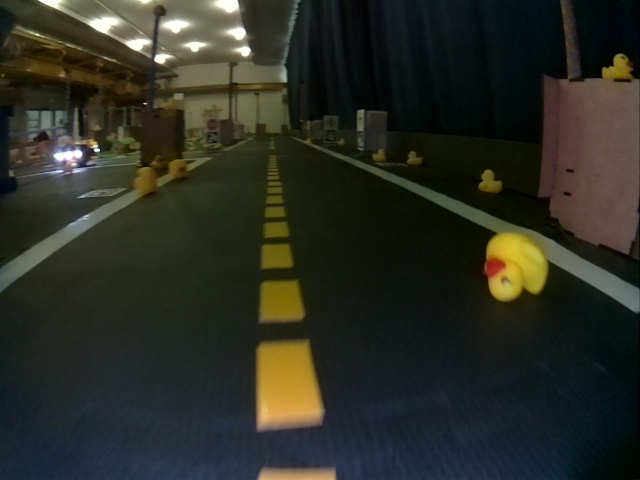Duckie: (486, 235, 549, 298), (603, 53, 633, 81), (134, 168, 156, 192), (480, 169, 499, 190), (169, 160, 186, 178), (408, 151, 422, 164), (151, 156, 164, 168), (372, 149, 384, 160), (304, 138, 313, 147)
QR code: (79, 188, 126, 198), (377, 161, 404, 168), (207, 132, 219, 144)
Stop sign: (207, 119, 219, 130)
